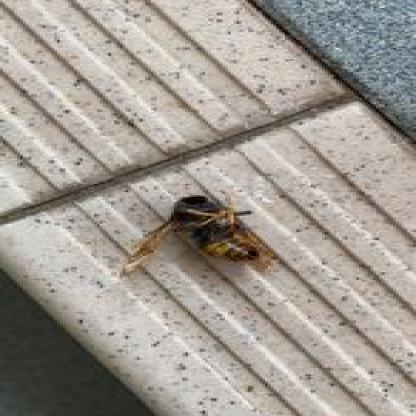Asian Hornet: (109, 190, 283, 281)
